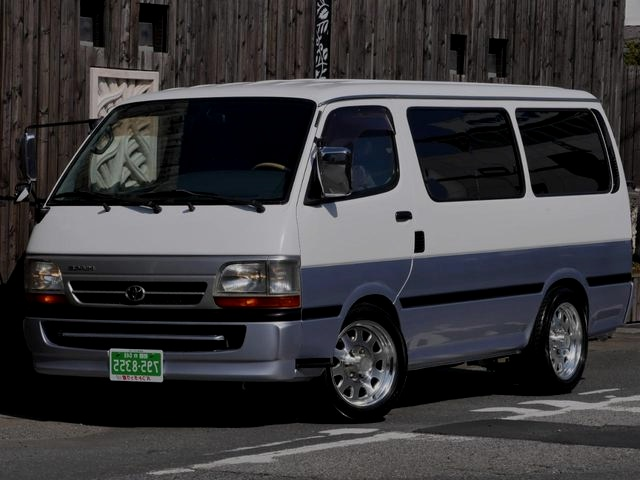van: (14, 84, 628, 426)
